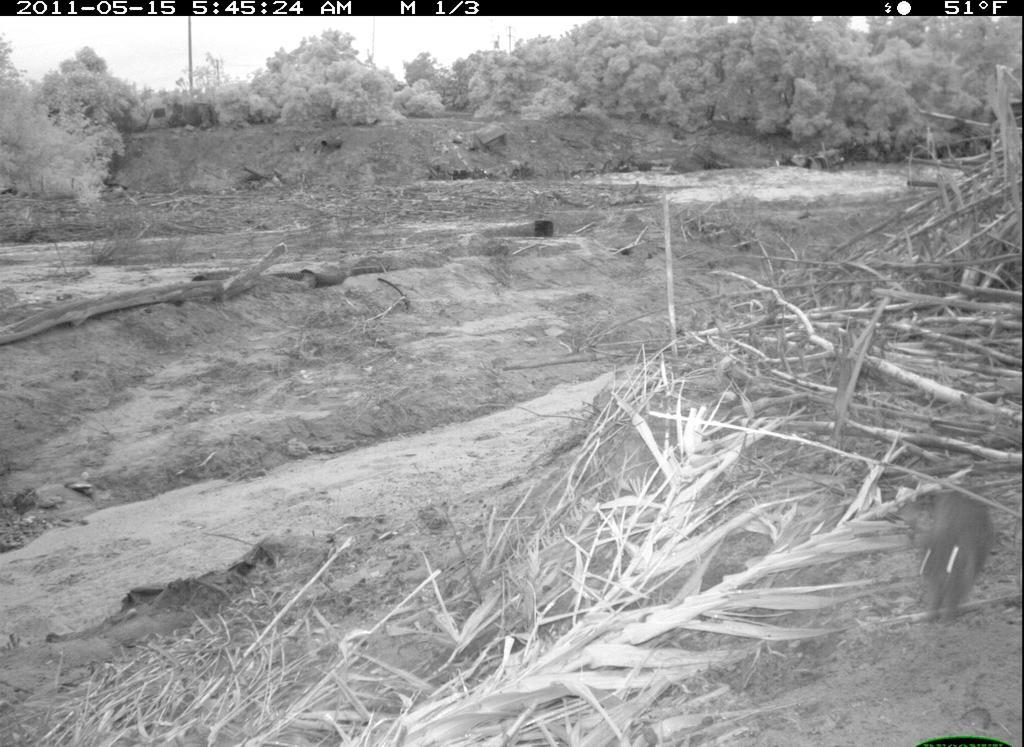rabbit: (898, 478, 994, 633)
